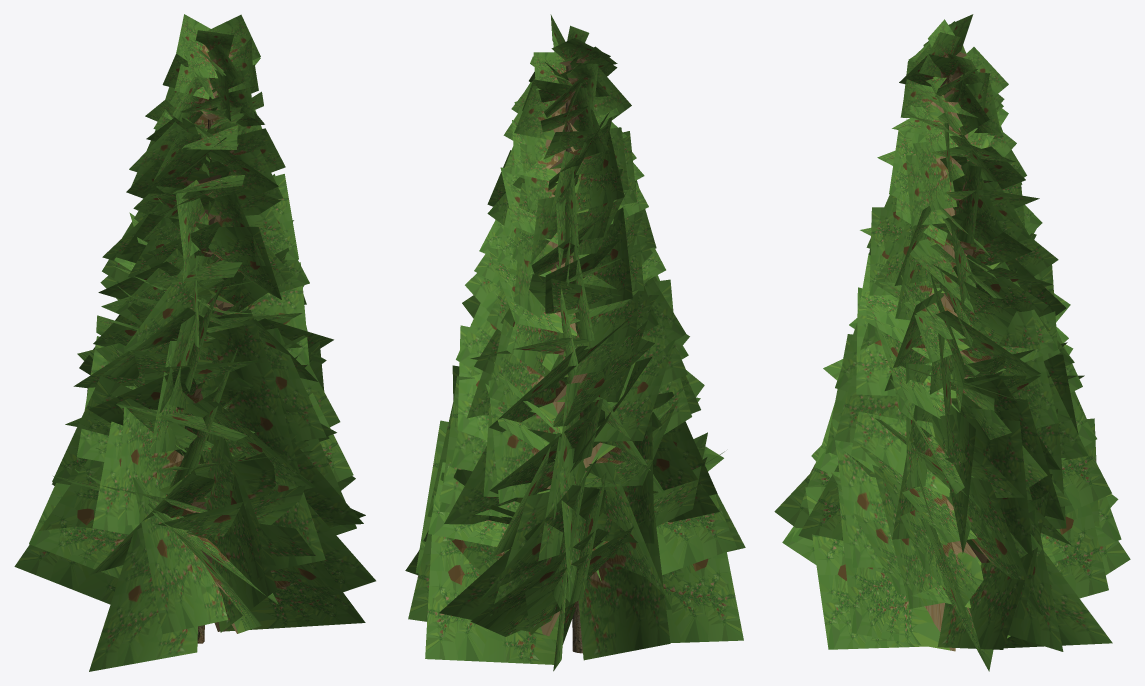
File: low_poly_tree_one.glb
The picture shows the model from 3 angles, left to right: view 1: azimuth 30°, elevation 25°; view 2: azimuth 150°, elevation 25°; view 3: azimuth 270°, elevation 25°; orthographic projection.
Parts seen in each view (by area): view 1: Tree_0; view 2: Tree_0; view 3: Tree_0.
Boxes of the visible parts, x1,y1,x2,y2 form: Tree_0: [14, 14, 375, 671]; Tree_0: [405, 14, 745, 671]; Tree_0: [774, 14, 1130, 671].
Bounding box in the file's own units: 0.7846 × 1.64 × 0.8422.
Materials: 2 (2 with a texture image).
